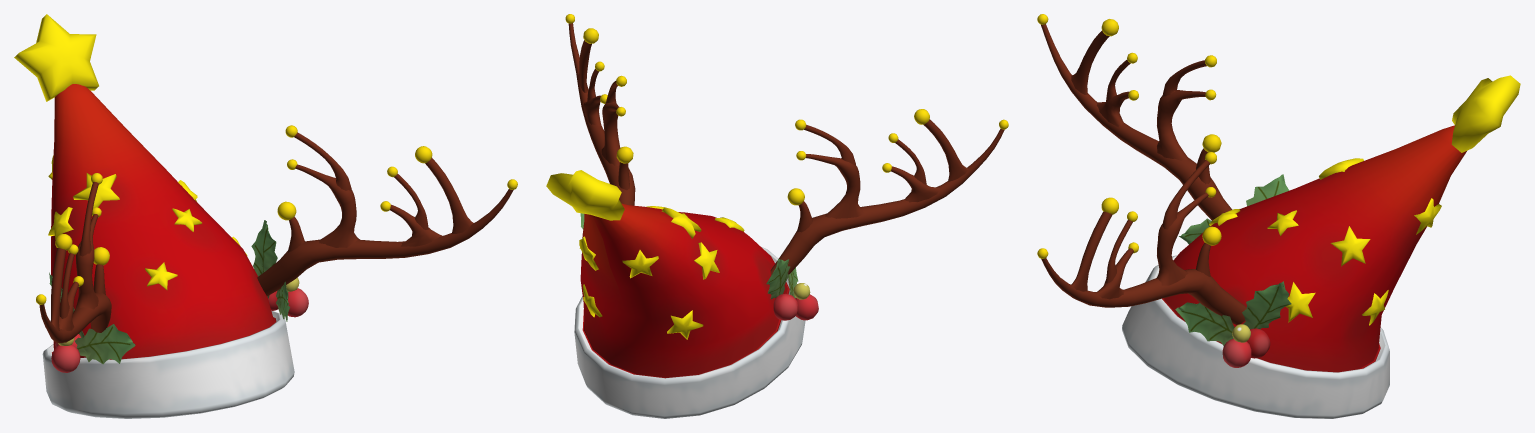
Rendered from maozi_3.obj.
The picture shows the model from 3 angles, left to right: view 1: azimuth 30°, elevation 25°; view 2: azimuth 150°, elevation 25°; view 3: azimuth 270°, elevation 25°; orthographic projection. The views are drawn at different scales.
Parts seen in each view (by area): view 1: maozi1 mao:maozo mao:pasted__pCylinder1, maozi1 mao:maozo polySurface8group14group14 jiao1, maozi1 mao:maozo pCylinder24, maozi1 mao:maozo uv8:polySurface8group14group14 jiao, polySurface22 maozi1 mao:maozo, maozi1 mao:maozo polySurface19, maozi1 mao:maozo pSphere22, maozi1 mao:maozo pSphere1; view 2: maozi1 mao:maozo mao:pasted__pCylinder1, maozi1 mao:maozo uv8:polySurface8group14group14 jiao, maozi1 mao:maozo pCylinder24, maozi1 mao:maozo polySurface8group14group14 jiao1, maozi1 mao:maozo polySurface21, maozi1 mao:maozo pSphere21, maozi1 mao:maozo pSphere22; view 3: maozi1 mao:maozo mao:pasted__pCylinder1, maozi1 mao:maozo polySurface8group14group14 jiao1, maozi1 mao:maozo uv8:polySurface8group14group14 jiao, maozi1 mao:maozo pCylinder24, maozi1 mao:maozo polySurface18, maozi1 mao:maozo polySurface19, maozi1 mao:maozo pSphere1, maozi1 mao:maozo polySurface21, maozi1 mao:maozo pSphere13.
Boxes of the visible parts, <box> form: maozi1 mao:maozo mao:pasted__pCylinder1: <box>42,84,294,418</box>; maozi1 mao:maozo polySurface8group14group14 jiao1: <box>257,132,513,296</box>; maozi1 mao:maozo pCylinder24: <box>14,14,247,290</box>; maozi1 mao:maozo uv8:polySurface8group14group14 jiao: <box>39,182,111,343</box>; polySurface22 maozi1 mao:maozo: <box>75,324,135,364</box>; maozi1 mao:maozo polySurface19: <box>251,220,277,298</box>; maozi1 mao:maozo pSphere22: <box>51,345,80,372</box>; maozi1 mao:maozo pSphere1: <box>288,288,308,317</box>; maozi1 mao:maozo mao:pasted__pCylinder1: <box>574,203,805,418</box>; maozi1 mao:maozo uv8:polySurface8group14group14 jiao: <box>770,119,1004,274</box>; maozi1 mao:maozo pCylinder24: <box>546,170,744,339</box>; maozi1 mao:maozo polySurface8group14group14 jiao1: <box>568,23,635,205</box>; maozi1 mao:maozo polySurface21: <box>766,258,790,299</box>; maozi1 mao:maozo pSphere21: <box>773,293,797,320</box>; maozi1 mao:maozo pSphere22: <box>795,294,818,320</box>; maozi1 mao:maozo mao:pasted__pCylinder1: <box>1122,125,1466,418</box>; maozi1 mao:maozo polySurface8group14group14 jiao1: <box>1041,160,1246,324</box>; maozi1 mao:maozo uv8:polySurface8group14group14 jiao: <box>1041,24,1232,220</box>; maozi1 mao:maozo pCylinder24: <box>1209,75,1520,325</box>; maozi1 mao:maozo polySurface18: <box>1175,302,1234,345</box>; maozi1 mao:maozo polySurface19: <box>1242,281,1291,329</box>; maozi1 mao:maozo pSphere1: <box>1222,338,1251,367</box>; maozi1 mao:maozo polySurface21: <box>1246,174,1289,206</box>; maozi1 mao:maozo pSphere13: <box>1246,328,1270,358</box>.
Bounding box in the file's own units: 415694 × 256666 × 355765.
1 material, 1 textured.
